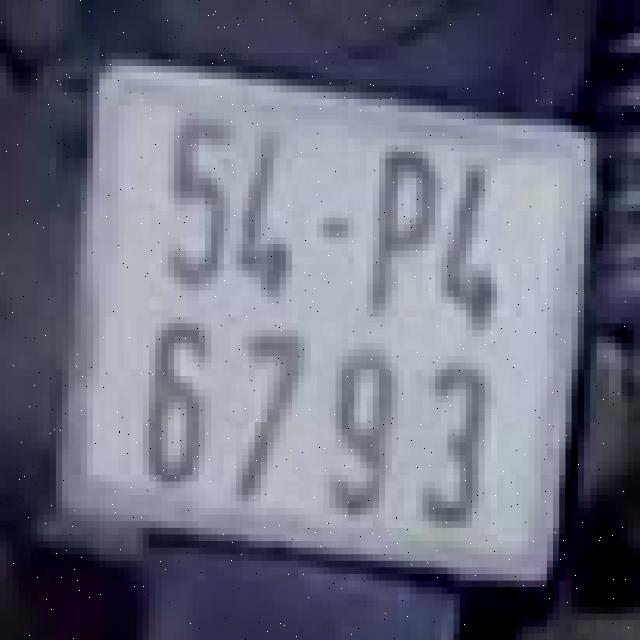3: (416, 343, 504, 535)
4: (435, 142, 509, 333), (236, 115, 298, 314)
5: (152, 109, 233, 293)
6: (143, 313, 211, 505)
7: (230, 323, 311, 515)
9: (320, 333, 401, 525)
P: (360, 138, 435, 330)
